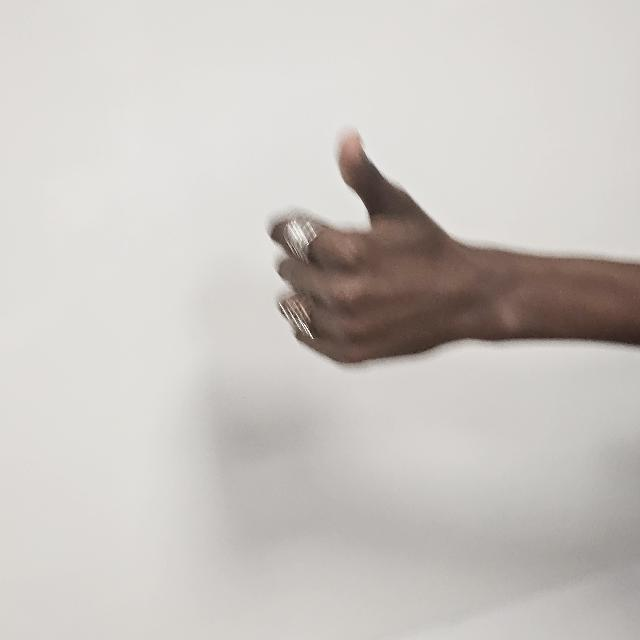Start: (271, 123, 475, 403)
